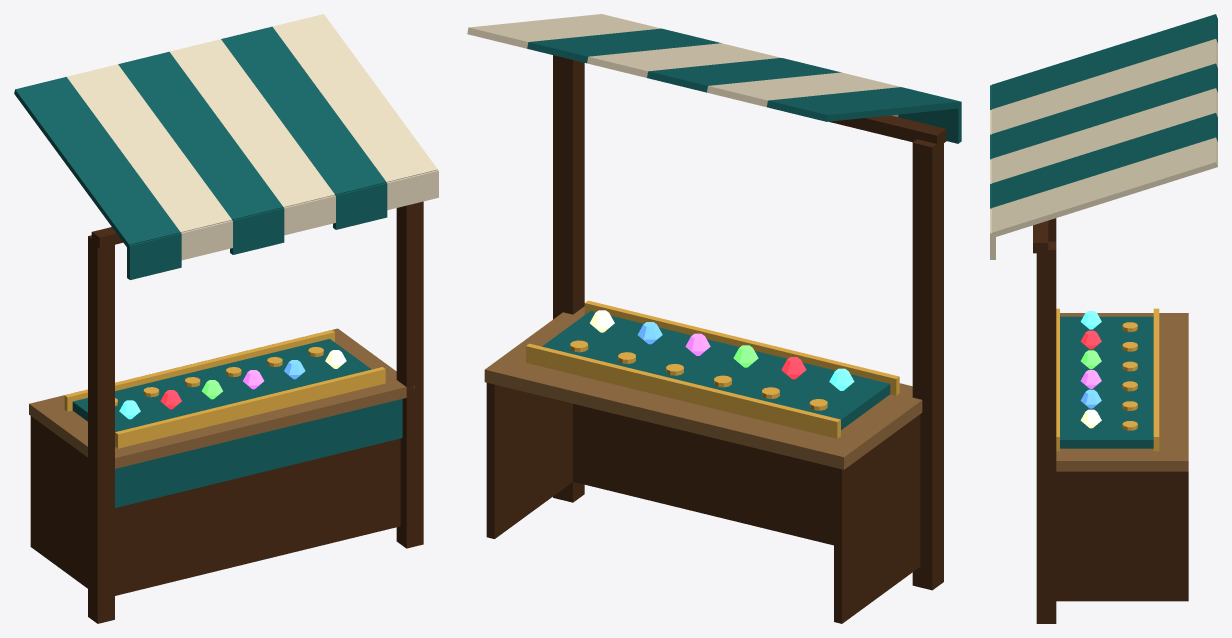
The model's file is shop_jeweler_stall.gltf.
3 views of the same model, side by side, from view 1: azimuth 30°, elevation 25°; view 2: azimuth 150°, elevation 25°; view 3: azimuth 270°, elevation 25° (orthographic). The views are drawn at different scales.
Parts seen in each view (by area): view 1: ShopJewelerStallShopCloth, ShopJewelerStallShopWood, ShopJewelerStallShopCream, ShopJewelerStallShopWoodLight, ShopJewelerStallShopGold; view 2: ShopJewelerStallShopWood, ShopJewelerStallShopCloth, ShopJewelerStallShopWoodLight, ShopJewelerStallShopGold, ShopJewelerStallShopCream; view 3: ShopJewelerStallShopCloth, ShopJewelerStallShopWood, ShopJewelerStallShopCream, ShopJewelerStallShopWoodLight, ShopJewelerStallShopGold.
Boxes of the visible parts, x1,y1,x2,y2 form: ShopJewelerStallShopCloth: (14,26,402,507); ShopJewelerStallShopWood: (30,201,423,623); ShopJewelerStallShopCream: (67,14,438,260); ShopJewelerStallShopWoodLight: (29,328,414,468); ShopJewelerStallShopGold: (64,330,385,448); ShopJewelerStallShopWood: (486,55,946,623); ShopJewelerStallShopCloth: (527,28,961,429); ShopJewelerStallShopWoodLight: (484,306,922,469); ShopJewelerStallShopGold: (526,300,899,438); ShopJewelerStallShopCream: (467,14,901,116); ShopJewelerStallShopCloth: (990,14,1217,448); ShopJewelerStallShopWood: (1033,218,1188,623); ShopJewelerStallShopCream: (990,39,1217,259); ShopJewelerStallShopWoodLight: (1056,313,1188,471); ShopJewelerStallShopGold: (1056,308,1159,451).
Size of what is drawn, in the model's own units: 1.9 by 2.59 by 1.17.
